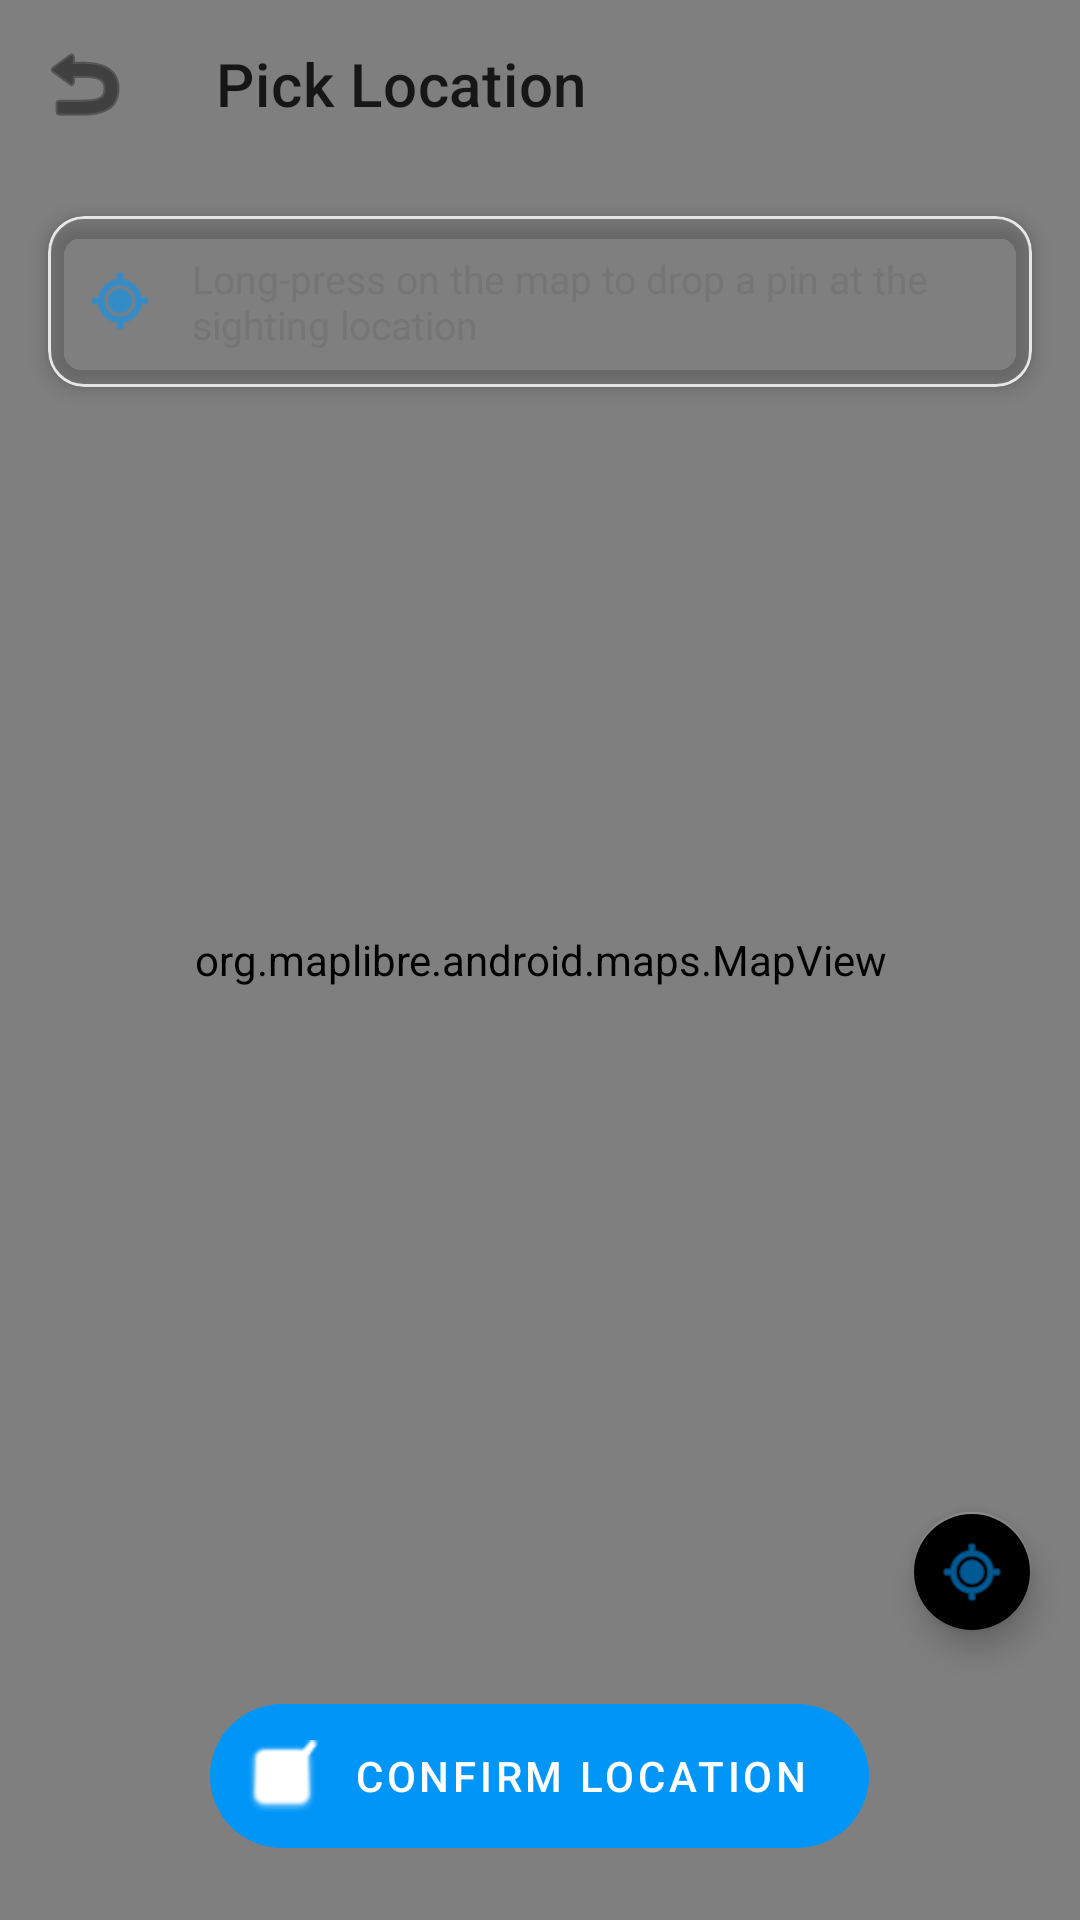

Icon bounding boxes for this 1080 x 1920 phone screenshot, format (x1, y1, x2, y2):
My location: (914, 1514, 1030, 1632)
